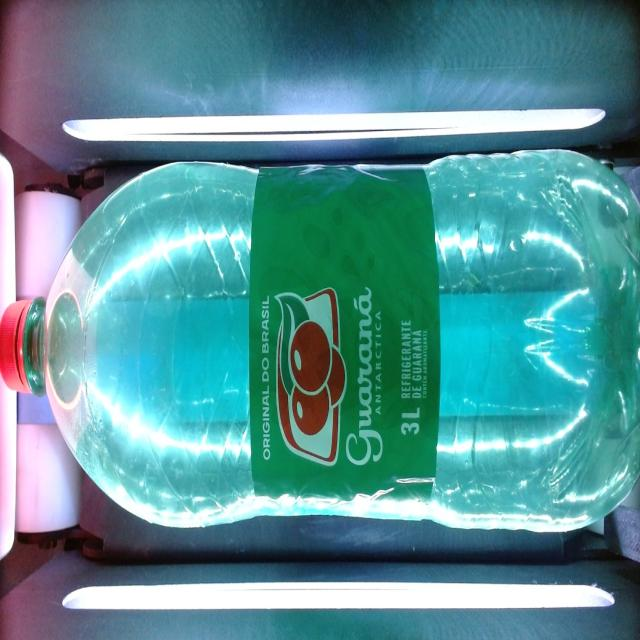bottom: (542, 147, 640, 539)
cap: (0, 289, 43, 406)
